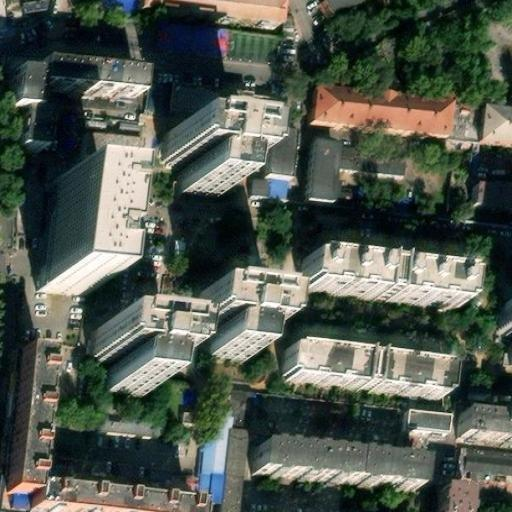building: (0, 346, 197, 512), (294, 257, 464, 313), (281, 345, 451, 398), (259, 441, 426, 492), (307, 90, 448, 149), (43, 181, 103, 293), (10, 66, 81, 154), (192, 295, 271, 364), (160, 124, 235, 193), (134, 0, 278, 35), (96, 330, 168, 399), (217, 426, 253, 512), (167, 90, 247, 128), (199, 400, 230, 495), (452, 405, 512, 447), (300, 142, 336, 207), (72, 115, 133, 151), (260, 137, 293, 200), (456, 449, 512, 485), (400, 393, 447, 434), (78, 72, 135, 100), (92, 409, 156, 433), (473, 117, 512, 156), (463, 184, 512, 215), (405, 160, 451, 185), (465, 385, 512, 408), (244, 99, 277, 130), (431, 484, 465, 512), (495, 304, 512, 339), (103, 0, 131, 14)
